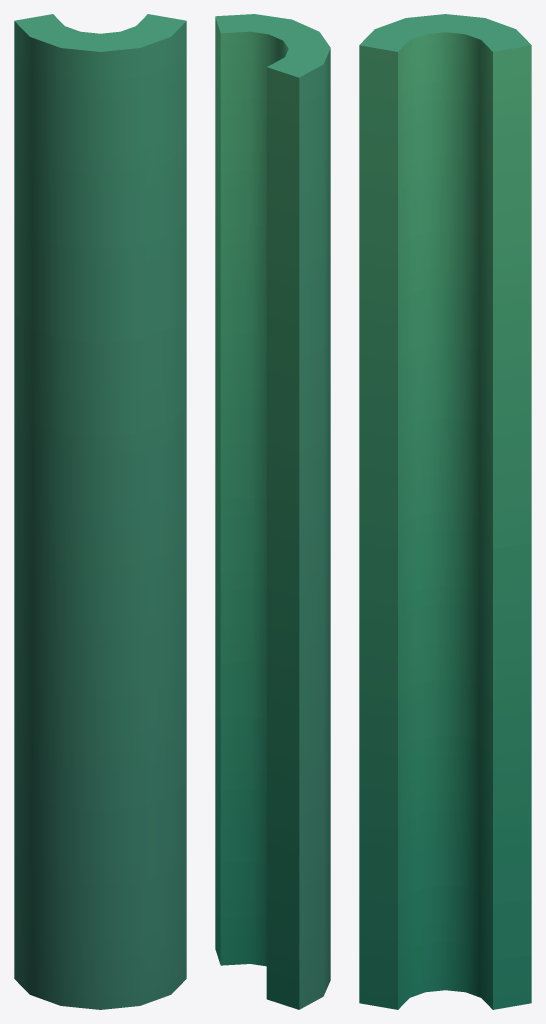
File: celery-harvest.glb
3 renders of one model, left to right at view 1: azimuth 90°, elevation 25°; view 2: azimuth 210°, elevation 25°; view 3: azimuth 270°, elevation 25°, orthographic. The views are drawn at different scales.
Visible parts, largest first — view 1: celery-stick; view 2: celery-stick; view 3: celery-stick.
Boxes of the visible parts, x1,y1,x2,y2 form: celery-stick: (14, 14, 186, 1009); celery-stick: (215, 14, 330, 1009); celery-stick: (359, 14, 531, 1009).
Size of the model in its own units: 0.0851 by 1 by 0.1633.
Materials: 1 (1 with a texture image).
